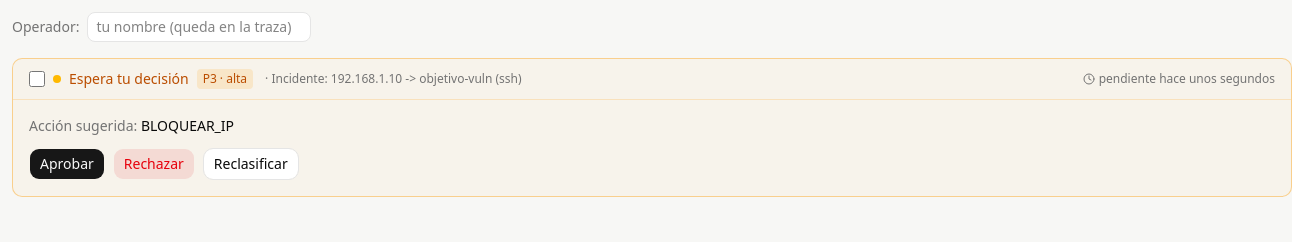
Test: Aprobaciones › Reclasificar deja la tarjeta esperando el menú de clases, sin aviso de éxito
Click the button "Reclasificar".
click(251, 164)  # box x1=203 y1=148 x2=299 y2=180
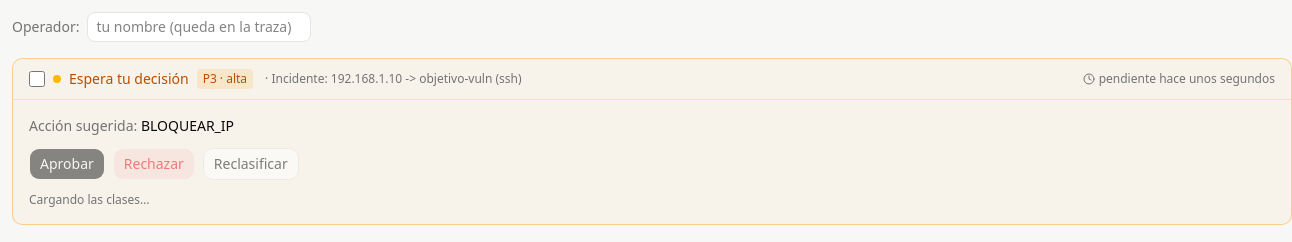
Expected: the text "Cargando las clases…" is shown, x1=29 y1=191 x2=150 y2=208
Expected: the button "Aprobar" is disabled, x1=29 y1=148 x2=105 y2=180
